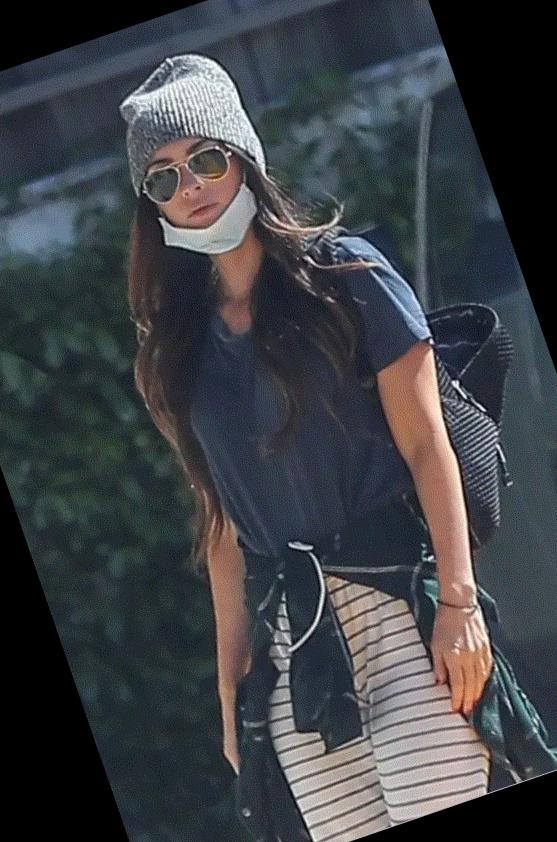mask_weared_incorrect: (138, 139, 262, 257)
